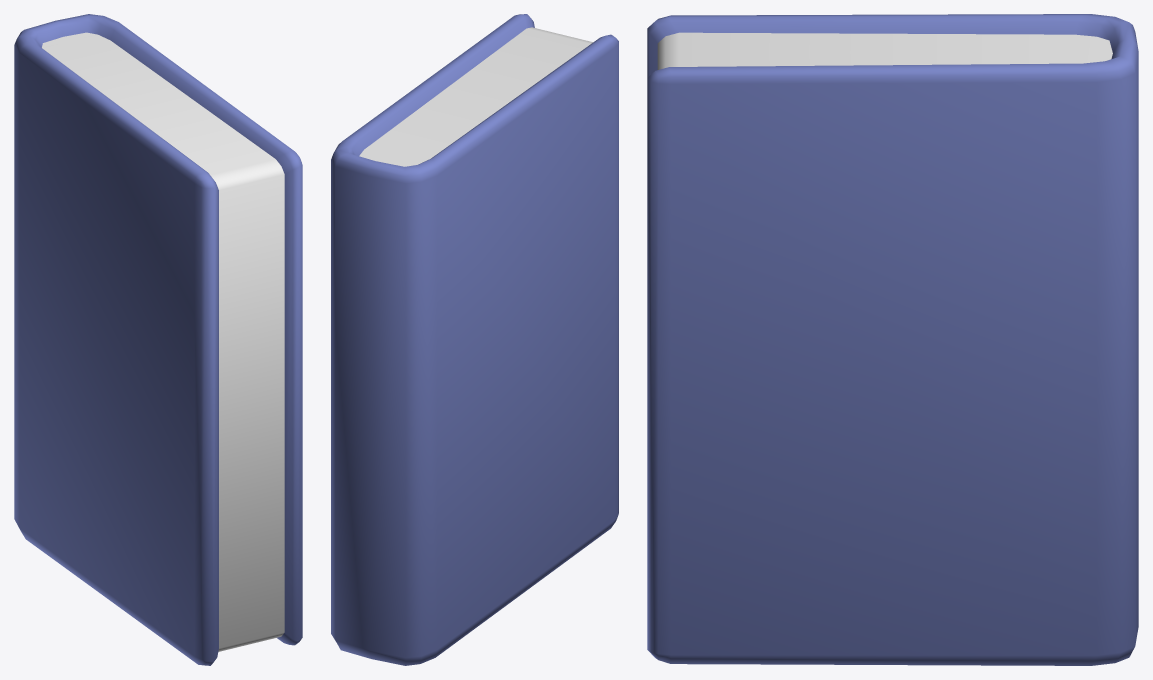
The model's file is Book05.fbx.
3 renders of one model, left to right at view 1: azimuth 30°, elevation 25°; view 2: azimuth 150°, elevation 25°; view 3: azimuth 270°, elevation 25°, orthographic. The views are drawn at different scales.
Parts seen in each view (by area): view 1: Book05; view 2: Book05; view 3: Book05.
Part boxes in pixels (x1,y1,x2,y2): Book05: [14, 14, 302, 665]; Book05: [331, 14, 618, 665]; Book05: [647, 14, 1138, 665].
Size of the model in its own units: 0.0443 by 0.1506 by 0.2031.
